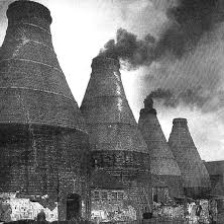smoke: (102, 6, 209, 64), (142, 85, 183, 109)
